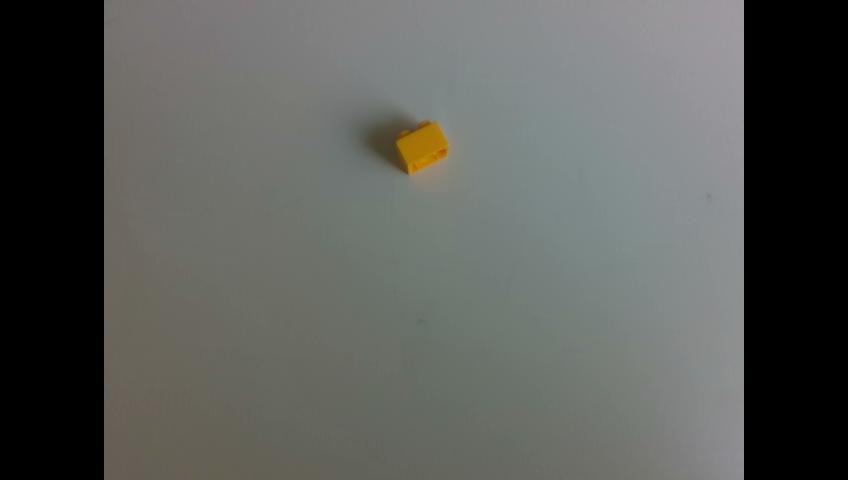2x2_yellow: (396, 120, 450, 174)
